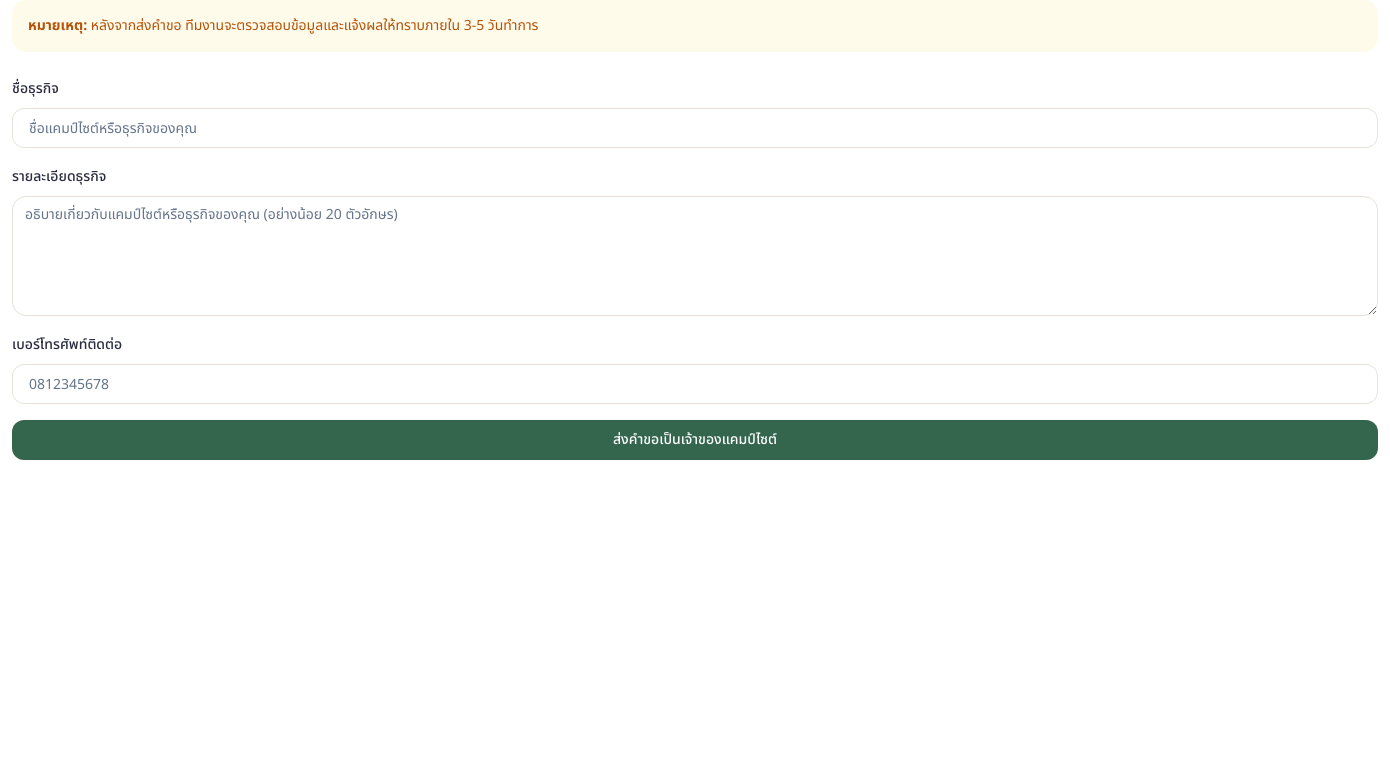
Test: OwnerRequestForm › Validation › validates business name minimum length
The image size is (1390, 768).
Type "AB" into the field labelled "ชื่อธุรกิจ".
click(695, 128); type("AB")  # box top-left (12, 108), bottom-right (1378, 148)
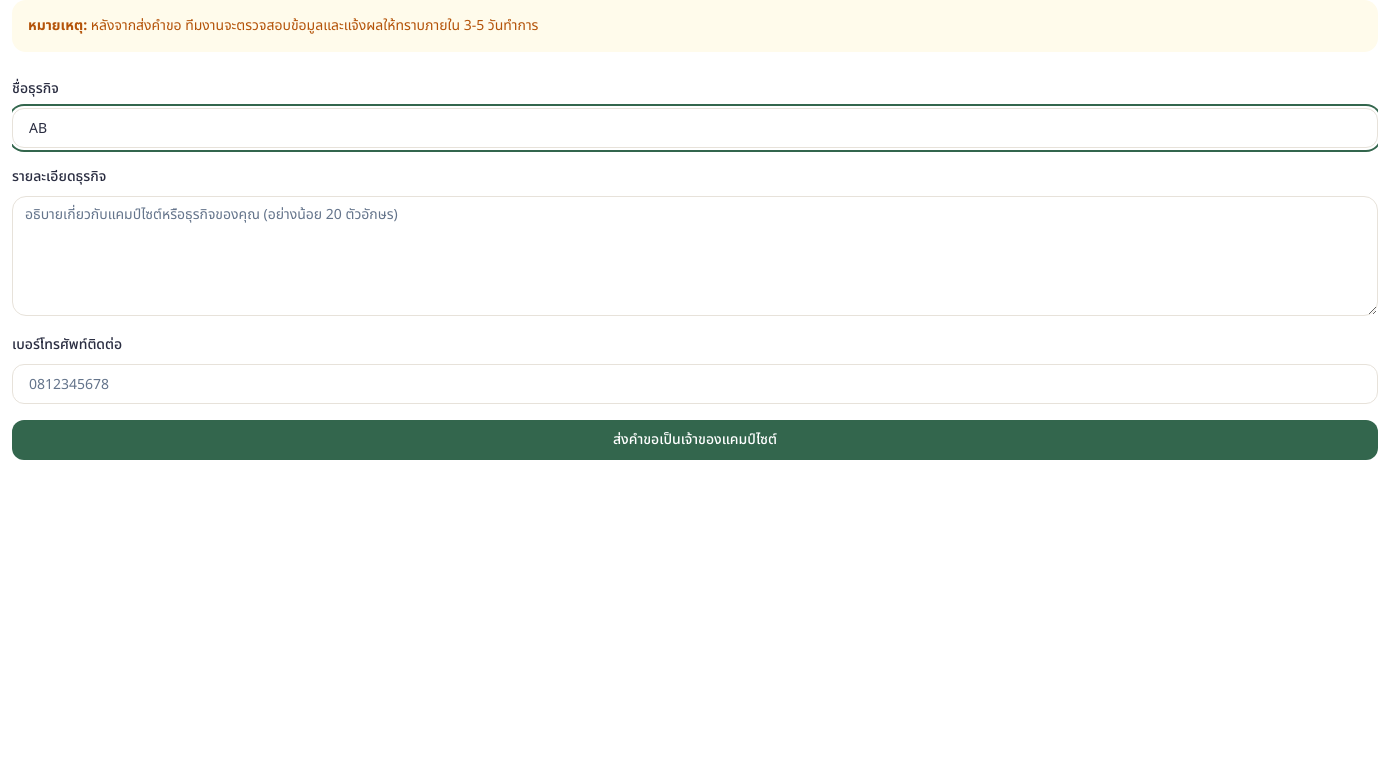
Click the button "ส่งคำขอเป็นเจ้าของแคมป์ไซต์".
click(695, 440)  # box top-left (12, 420), bottom-right (1378, 460)
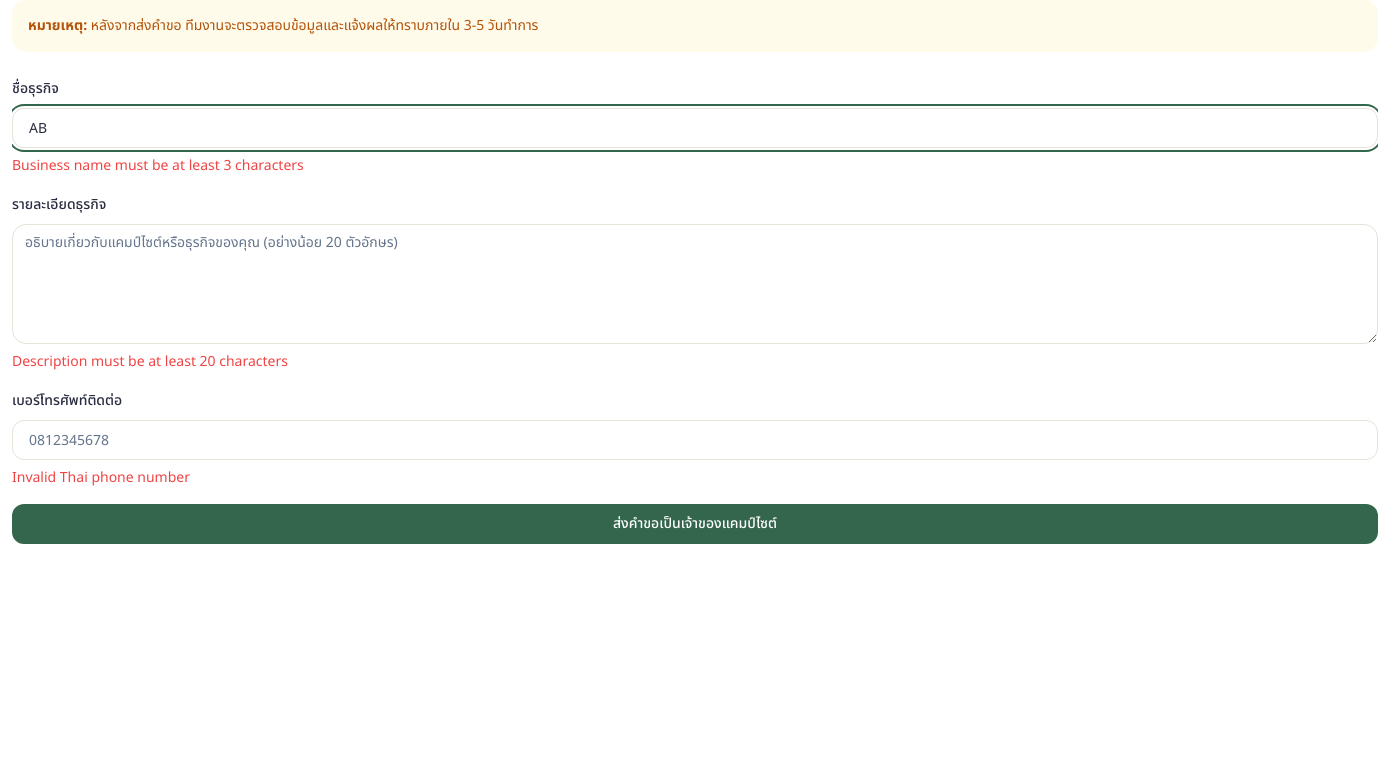
Check: the text "Business name must be at least 3 characters" is shown, box top-left (12, 155), bottom-right (304, 176)
